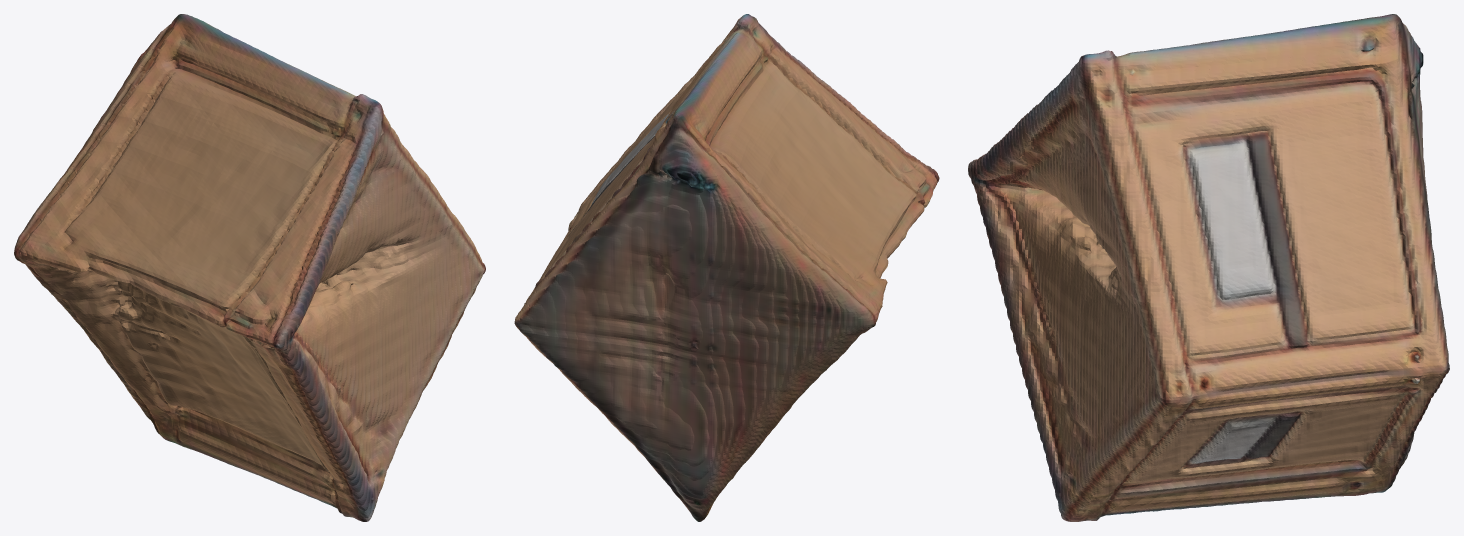
File: triposr_supply_crate.glb
The picture shows the model from 3 angles, left to right: view 1: azimuth 30°, elevation 25°; view 2: azimuth 150°, elevation 25°; view 3: azimuth 270°, elevation 25°; orthographic projection. The views are drawn at different scales.
Visible parts, largest first — view 1: geometry_0; view 2: geometry_0; view 3: geometry_0.
Part boxes in pixels (bbox=[...]): geometry_0: bbox=[14, 14, 485, 521]; geometry_0: bbox=[514, 14, 939, 521]; geometry_0: bbox=[968, 14, 1449, 521].
Size of the model in its own units: 1.19 by 1.22 by 1.1.
